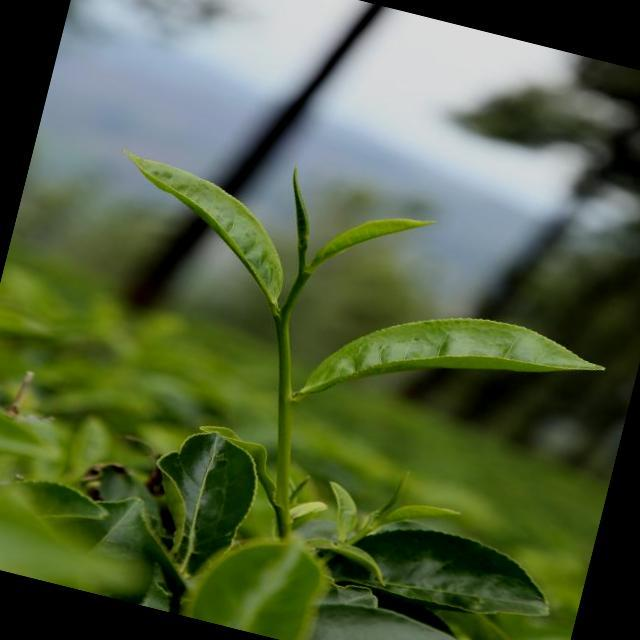Stem: (276, 314, 289, 327)
